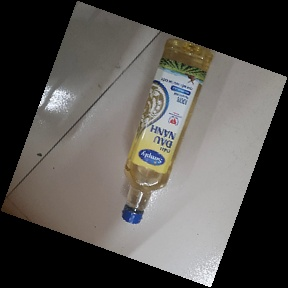Simply: (120, 29, 216, 230)
